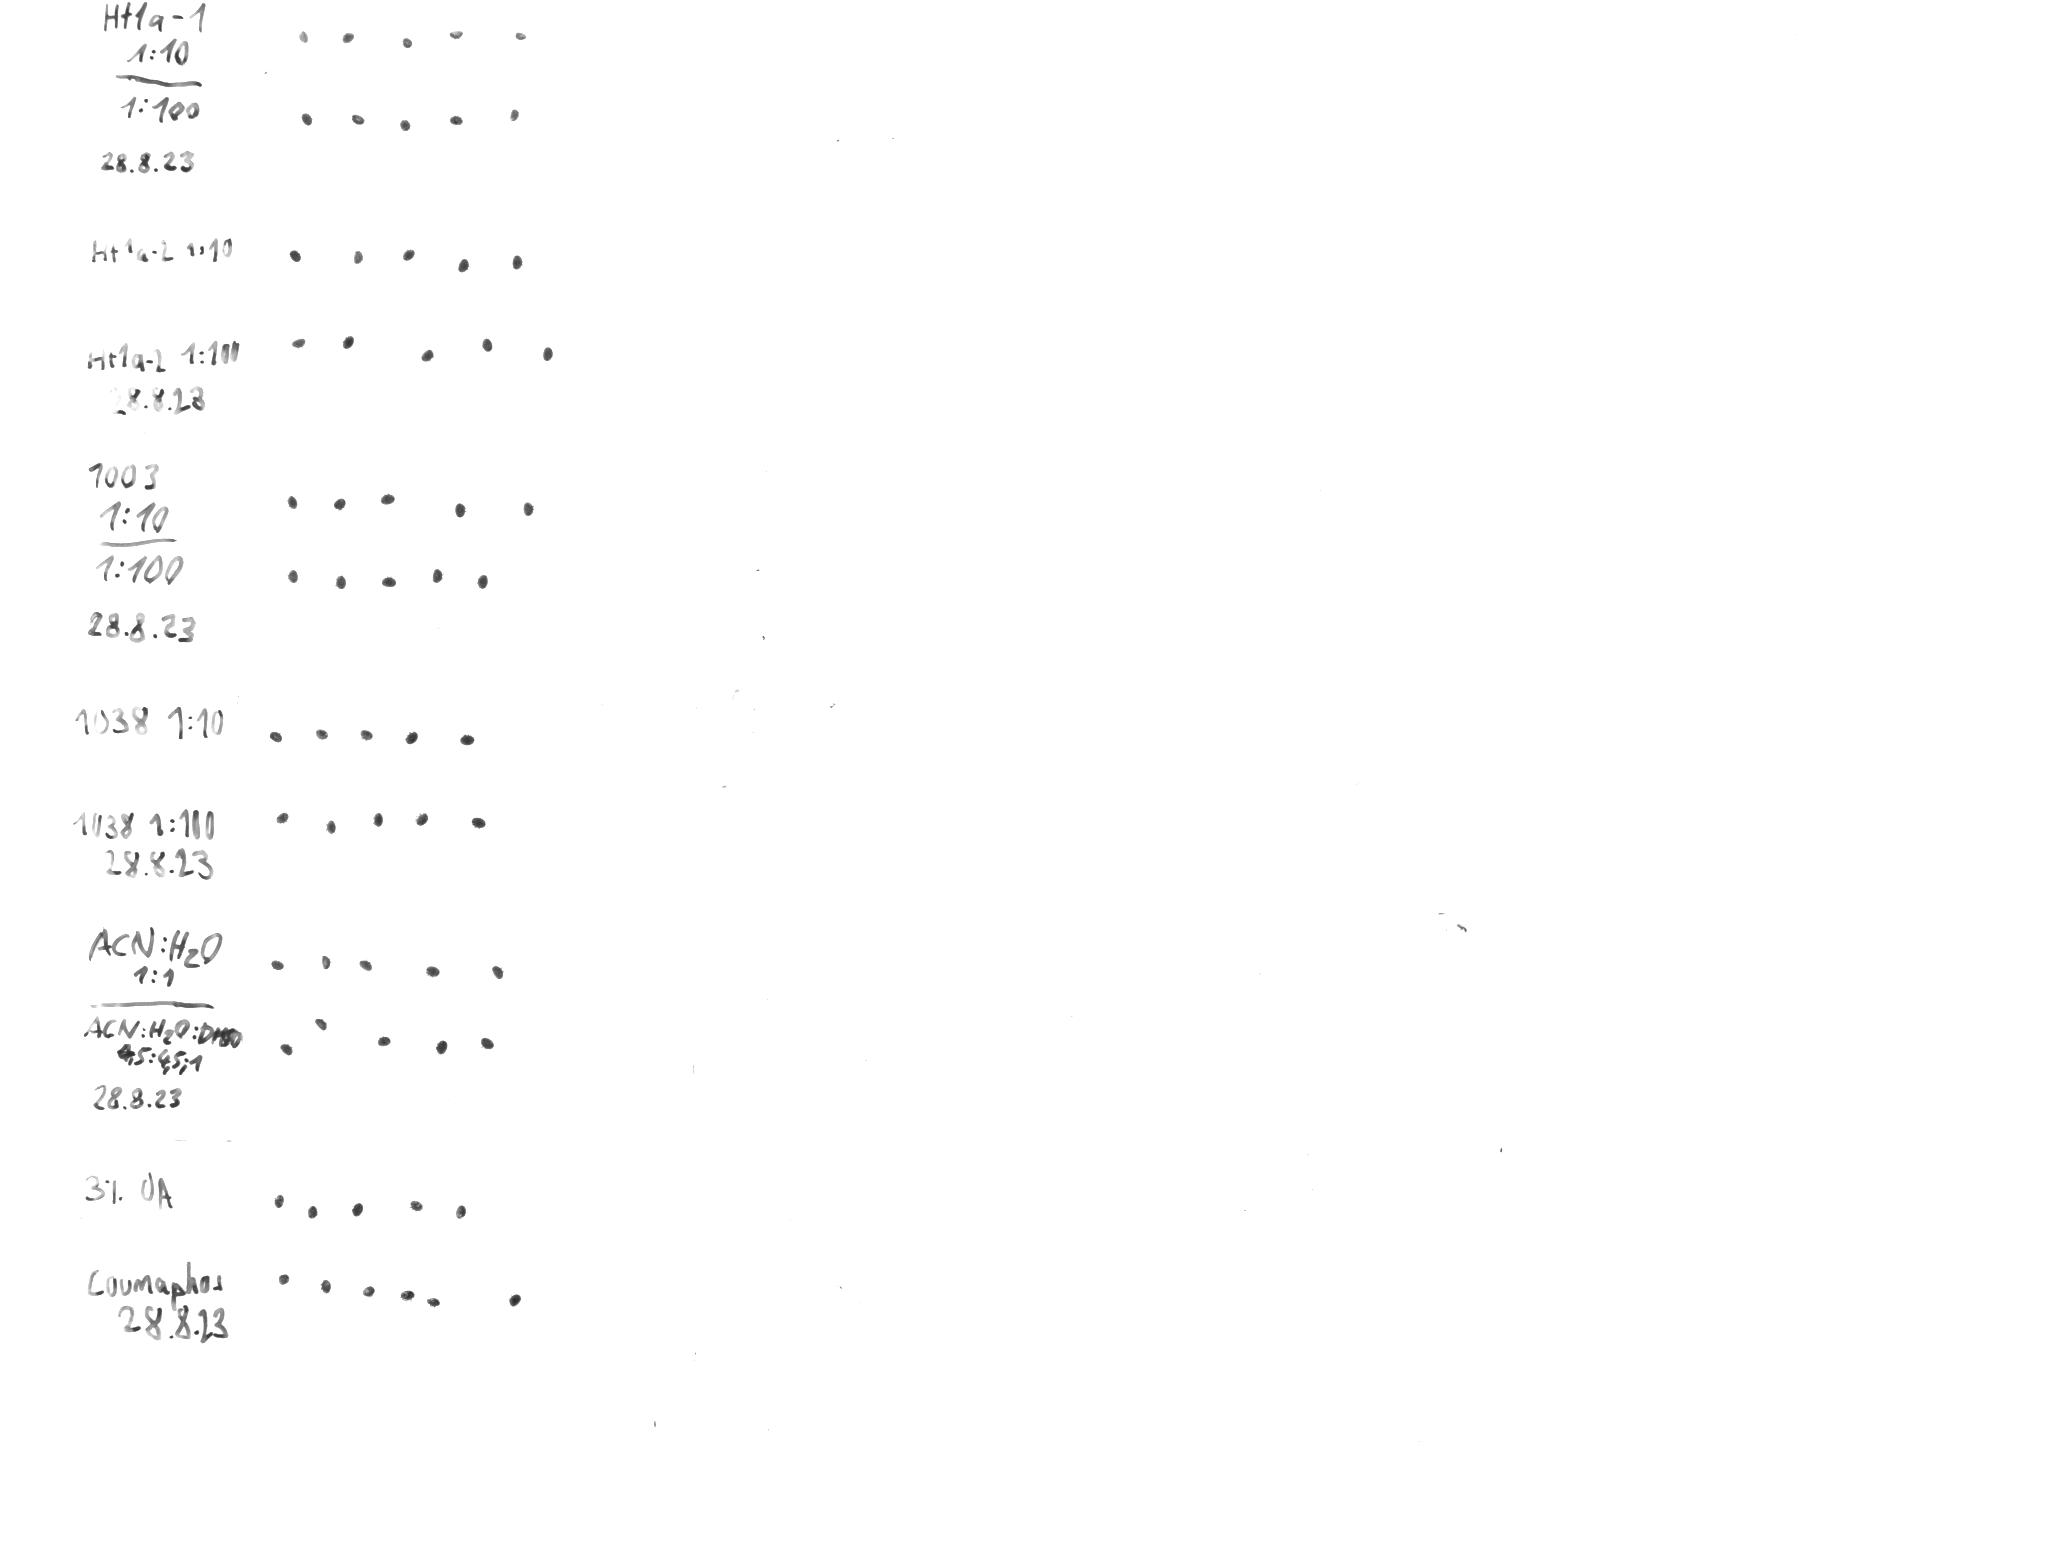varroa: (376, 572, 400, 589), (293, 27, 314, 45), (479, 1033, 497, 1053), (314, 1278, 334, 1296), (272, 809, 293, 826), (398, 1287, 419, 1304), (331, 573, 349, 592), (360, 1282, 379, 1300), (490, 962, 507, 982), (539, 342, 555, 363), (503, 1291, 524, 1307), (402, 728, 420, 746), (267, 956, 287, 972), (453, 499, 468, 520), (378, 491, 400, 505), (510, 252, 525, 272), (475, 572, 490, 592), (298, 111, 315, 128), (455, 257, 472, 274), (469, 815, 487, 831), (313, 1015, 331, 1031), (458, 732, 477, 747), (339, 334, 356, 350), (479, 337, 496, 353), (280, 1041, 296, 1058), (433, 1038, 449, 1055), (453, 1202, 469, 1219), (349, 113, 367, 128), (312, 726, 331, 740), (423, 965, 442, 979), (331, 497, 348, 512), (319, 954, 334, 971), (289, 337, 307, 351), (521, 499, 535, 517), (357, 958, 375, 972), (286, 493, 299, 512), (286, 569, 301, 585), (323, 819, 339, 834), (276, 1272, 292, 1287), (370, 812, 385, 827), (410, 1197, 425, 1212), (269, 729, 283, 745), (359, 728, 375, 742), (415, 811, 429, 827), (272, 1192, 285, 1209), (432, 566, 443, 586), (397, 118, 412, 132), (450, 113, 464, 128), (305, 1204, 319, 1219), (419, 348, 435, 361), (426, 1296, 442, 1309), (376, 1035, 393, 1047), (352, 249, 364, 265), (348, 1204, 364, 1216), (446, 29, 465, 39), (342, 31, 356, 44), (288, 251, 303, 263), (509, 107, 520, 123), (404, 248, 416, 262), (400, 38, 413, 49), (513, 32, 528, 40)
